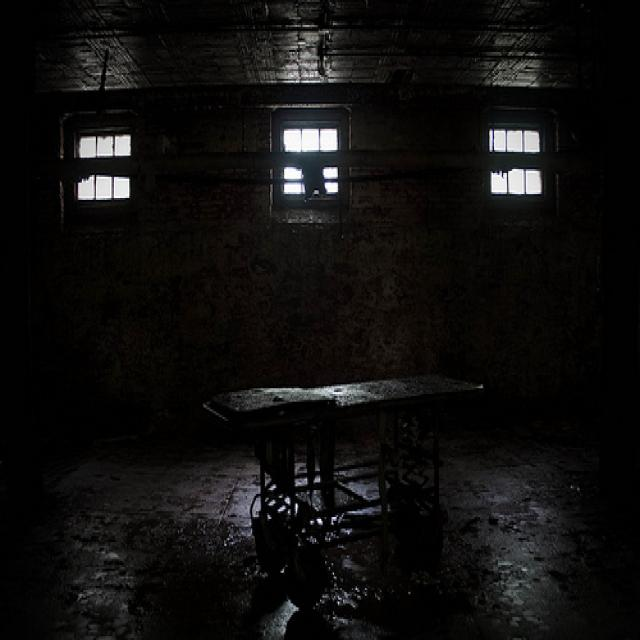Table: (201, 333, 526, 611)
